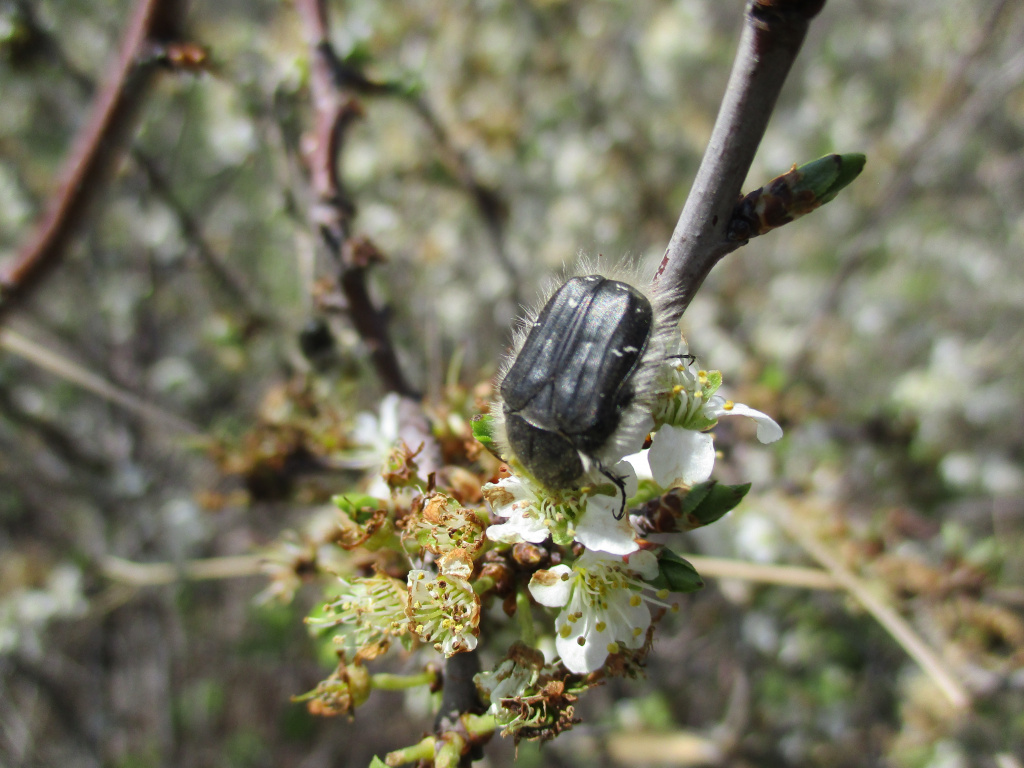Tropinota_hirta: (483, 228, 714, 528)
